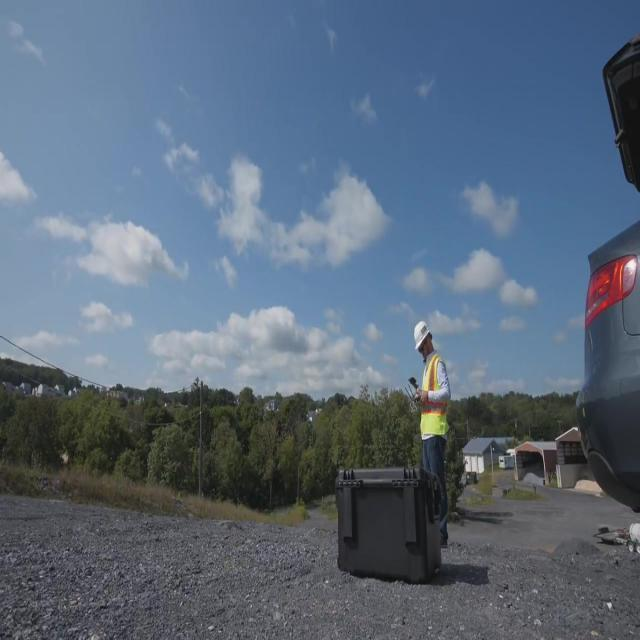reflective_jacket: (409, 350, 458, 454)
safety_helmet: (408, 310, 437, 356)
